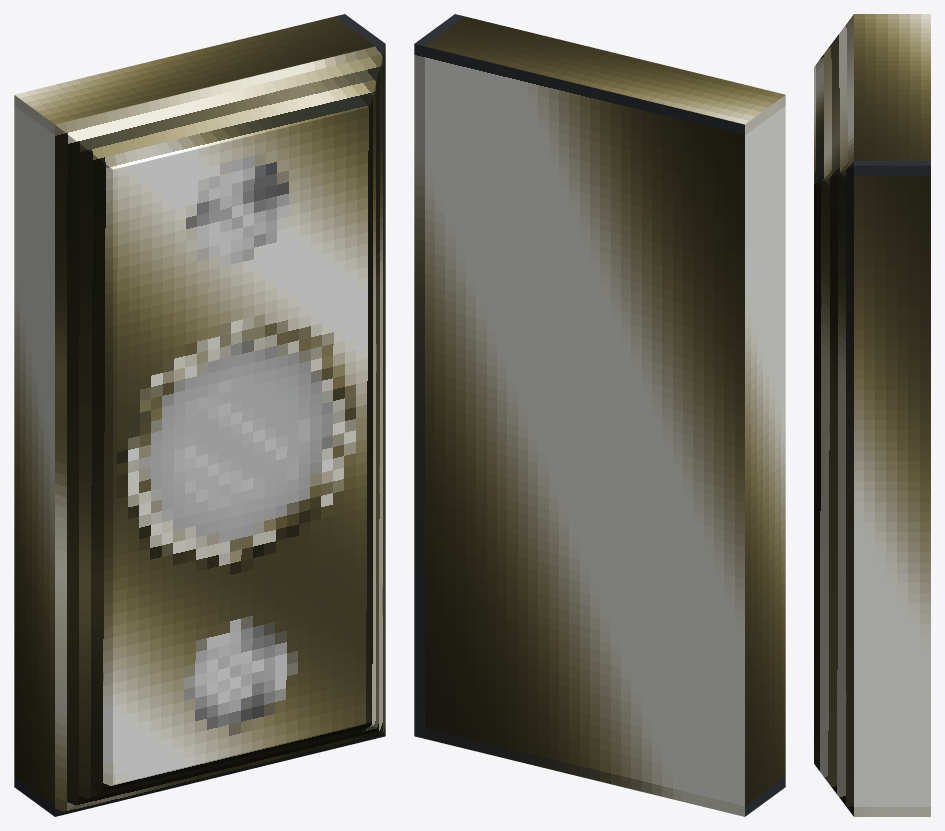
Rendered from doorbell.glb.
The picture shows the model from 3 angles, left to right: view 1: azimuth 30°, elevation 25°; view 2: azimuth 150°, elevation 25°; view 3: azimuth 270°, elevation 25°; orthographic projection. The views are drawn at different scales.
Visible parts, largest first — view 1: doorbell; view 2: doorbell; view 3: doorbell.
Part boxes in pixels (x1,y1,x2,y2): doorbell: [14, 14, 385, 816]; doorbell: [414, 14, 785, 816]; doorbell: [814, 14, 930, 816].
Bounding box in the file's own units: 0.2 × 0.4 × 0.065.
1 material, 1 textured.
